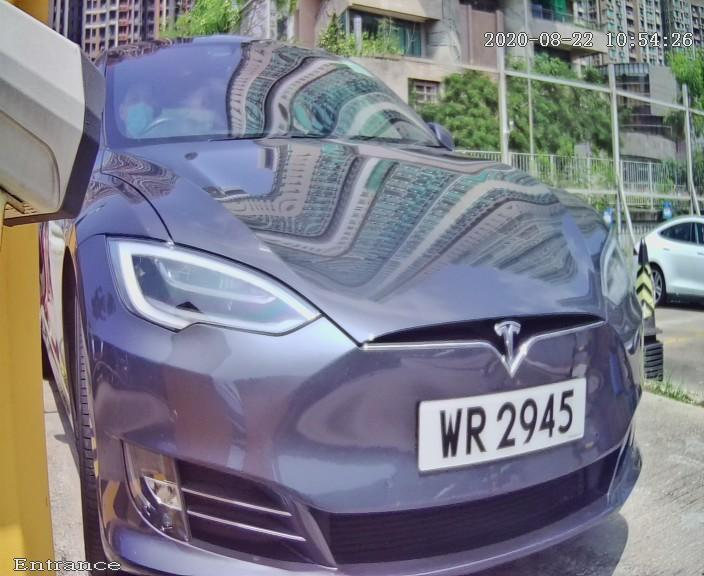License Plate: (398, 363, 613, 487)
